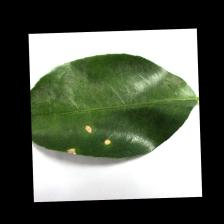canker: (56, 112, 118, 164)
